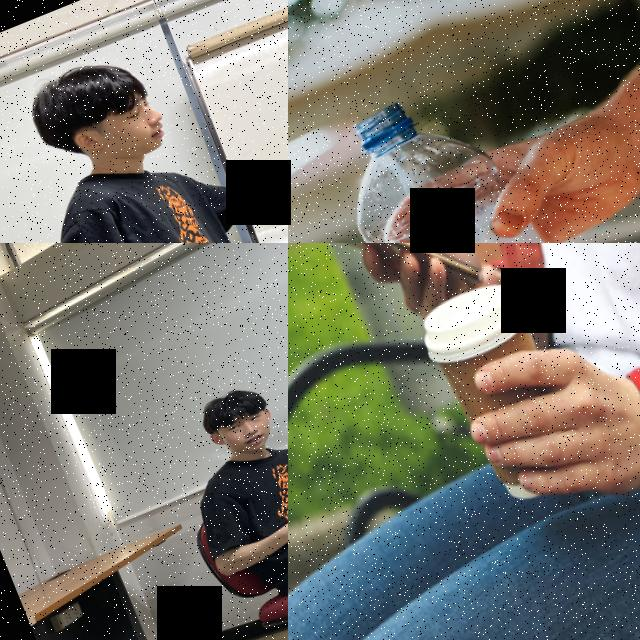bottle: (314, 54, 640, 243)
cup: (410, 270, 600, 522)
